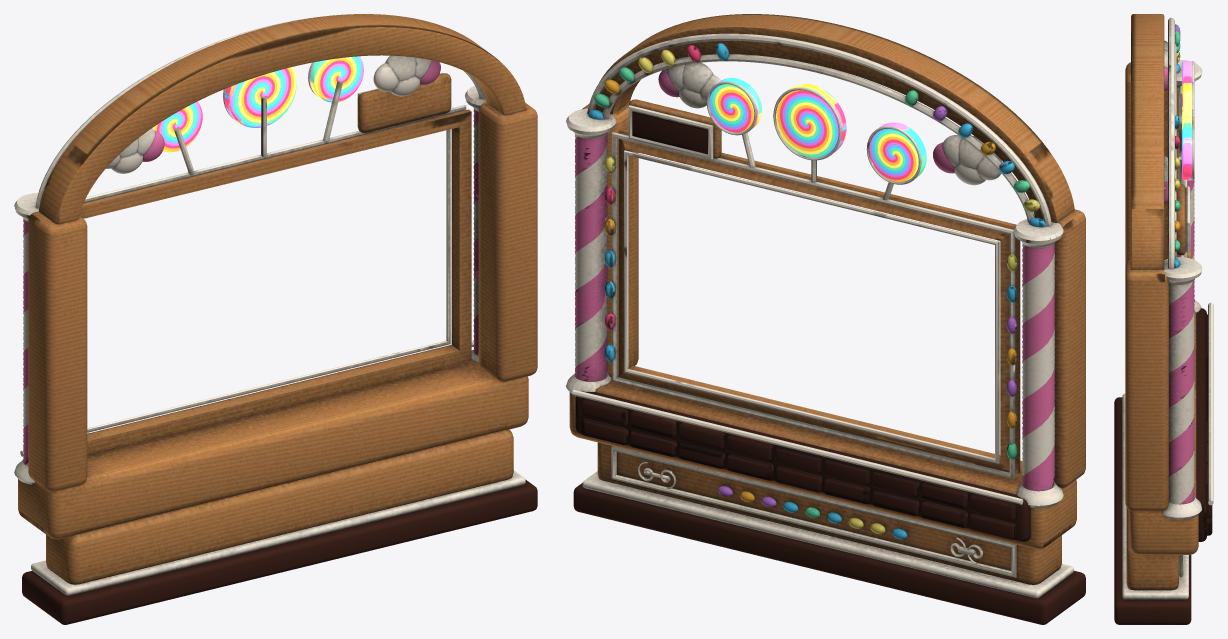
3 renders of one model, left to right at view 1: azimuth 30°, elevation 25°; view 2: azimuth 150°, elevation 25°; view 3: azimuth 270°, elevation 25°, orthographic. The views are drawn at different scales.
Visible parts, largest first — view 1: Baked_gingerbread, Vanilla_icing, Chocolate_couverture, Rainbow_candy_glow, Strawberry_sugar; view 2: Baked_gingerbread, Vanilla_icing, Chocolate_couverture, Strawberry_sugar, Rainbow_candy_glow, Fruit_jelly_beans; view 3: Baked_gingerbread, Vanilla_icing, Chocolate_couverture, Strawberry_sugar, Rainbow_candy_glow, Fruit_jelly_beans.
Part boxes in pixels (box(x1,y1,x2,y2)): Baked_gingerbread: box(18, 14, 537, 584); Vanilla_icing: box(14, 17, 525, 595); Chocolate_couverture: box(22, 350, 537, 624); Rainbow_candy_glow: box(152, 56, 363, 152); Strawberry_sugar: box(23, 60, 478, 464); Baked_gingerbread: box(569, 14, 1085, 584); Vanilla_icing: box(566, 33, 1073, 598); Chocolate_couverture: box(573, 111, 1085, 624); Strawberry_sugar: box(574, 69, 1054, 490); Rainbow_candy_glow: box(709, 77, 926, 181); Fruit_jelly_beans: box(588, 43, 1045, 539); Baked_gingerbread: box(1125, 14, 1198, 590); Vanilla_icing: box(1122, 17, 1213, 599); Chocolate_couverture: box(1114, 308, 1212, 624); Strawberry_sugar: box(1164, 67, 1194, 504); Rainbow_candy_glow: box(1182, 61, 1192, 180); Fruit_jelly_beans: box(1175, 24, 1190, 267).
Size of the model in its own units: 11.04 by 11.2 by 2.14.
Materials: 6 (6 with a texture image).
